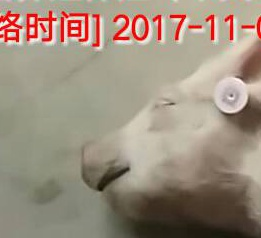text: (204, 72, 261, 124)
